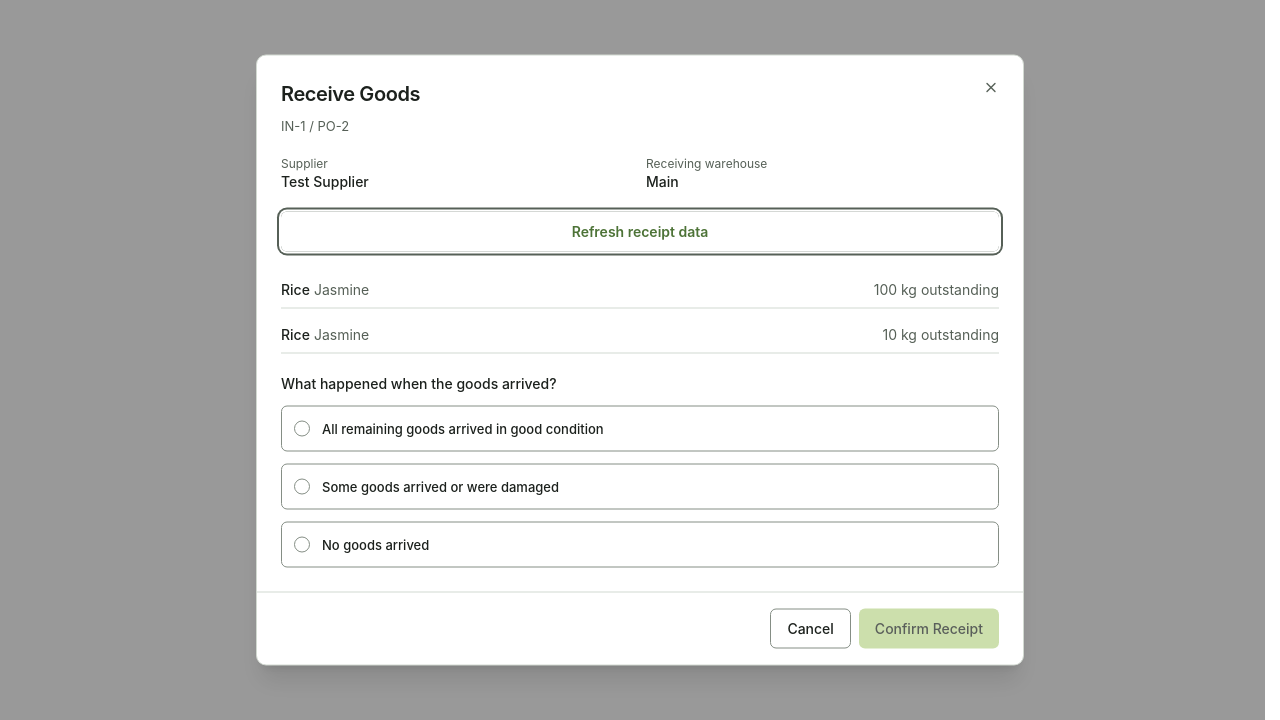
Test: keeps the receipt form open and refreshes state on a 409
The image size is (1280, 720).
Click the radio button labelled "Some goods arrived or were damaged": (302, 486) x1=294 y1=478 x2=310 y2=494
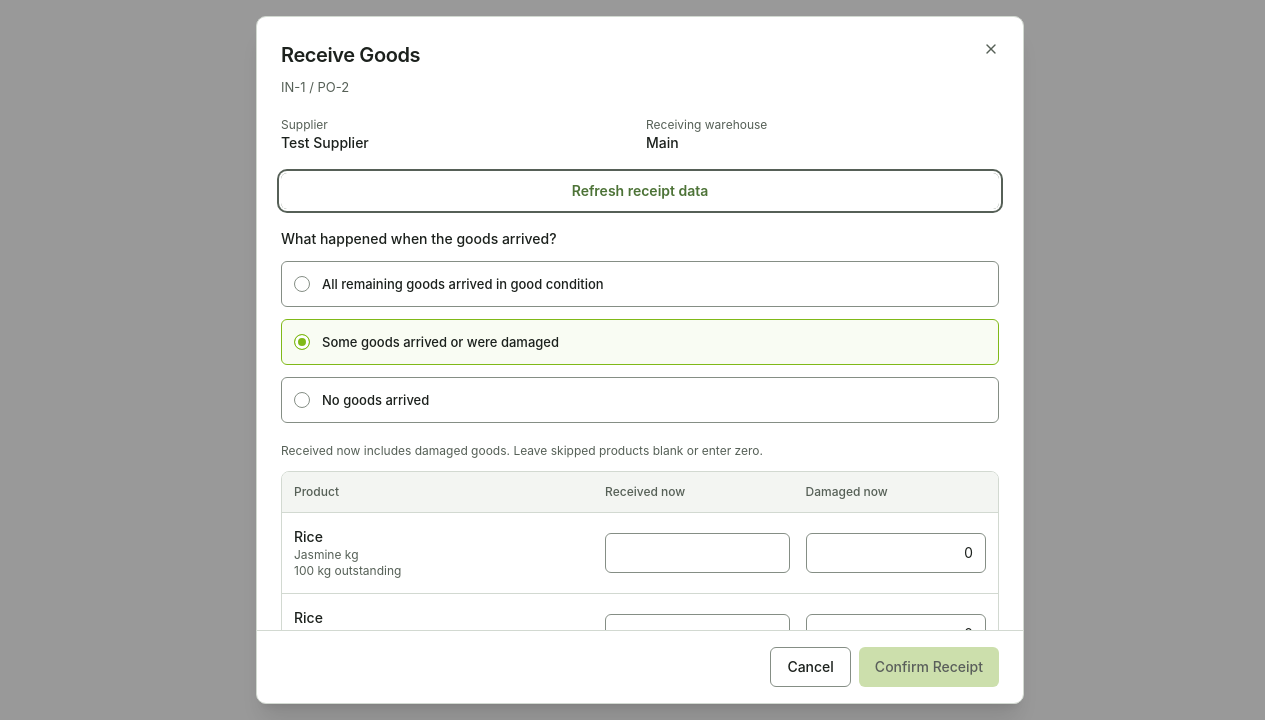
In the field named "Received now for Rice (1)": (697, 552) x1=605 y1=532 x2=790 y2=572, type "1"
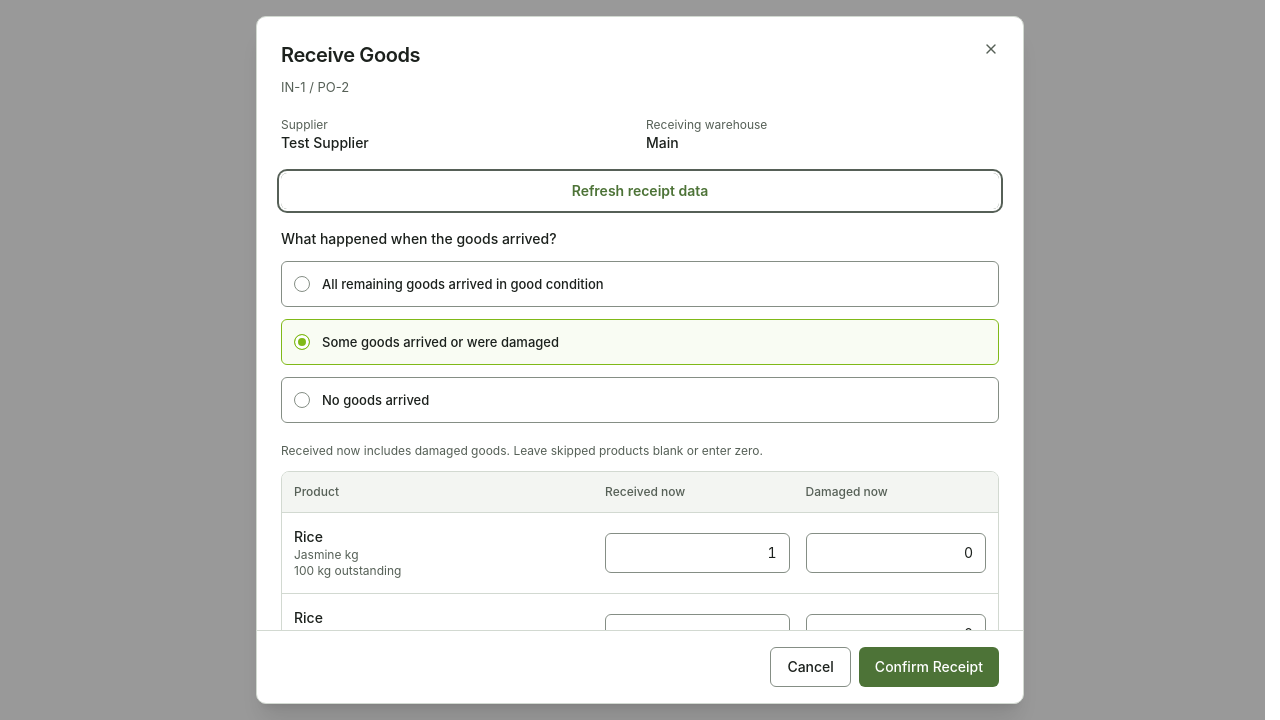
Click the button "Confirm Receipt": (929, 667) x1=859 y1=647 x2=999 y2=687
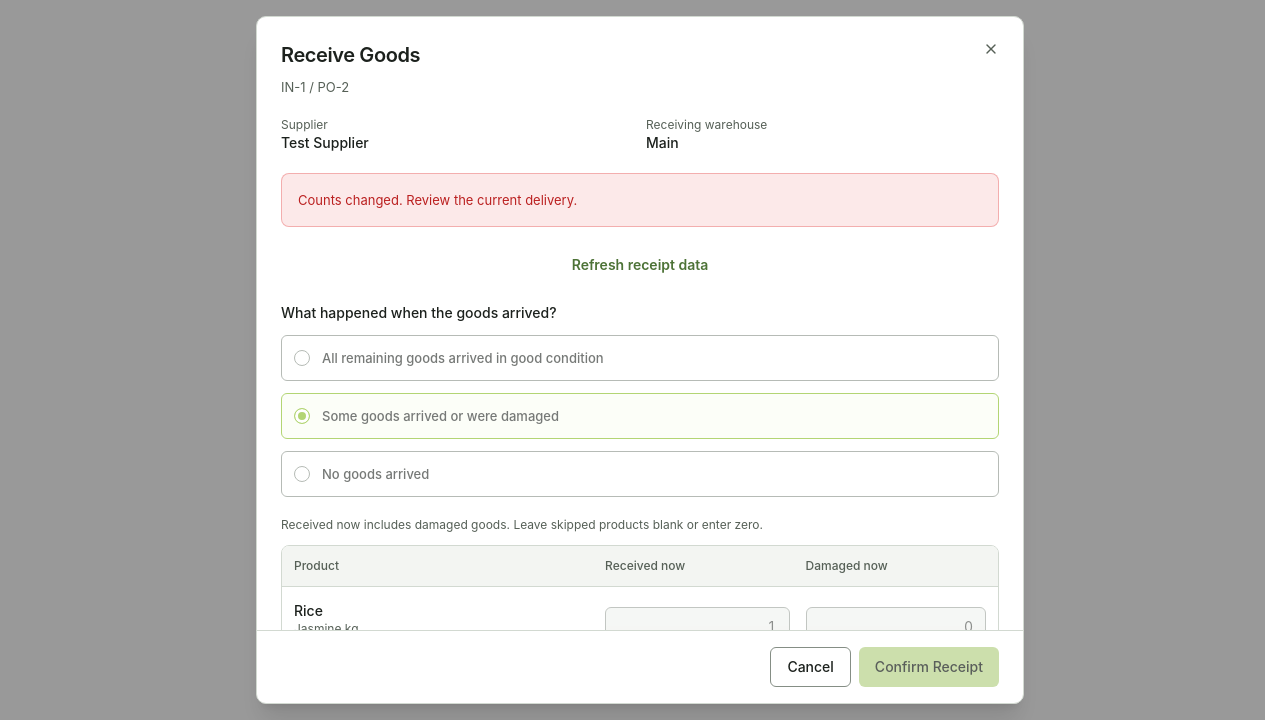
expect the message shows "Counts changed": met, box x1=298 y1=192 x2=577 y2=208
